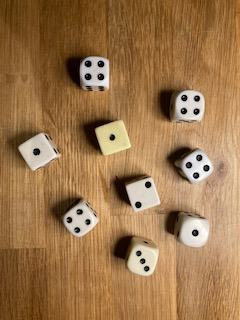four: (59, 196, 100, 238), (173, 146, 215, 185), (76, 54, 112, 94), (169, 89, 206, 125)
one: (16, 130, 63, 173), (93, 117, 134, 157), (173, 209, 212, 250)
three: (123, 234, 161, 278)
two: (122, 174, 162, 213)
